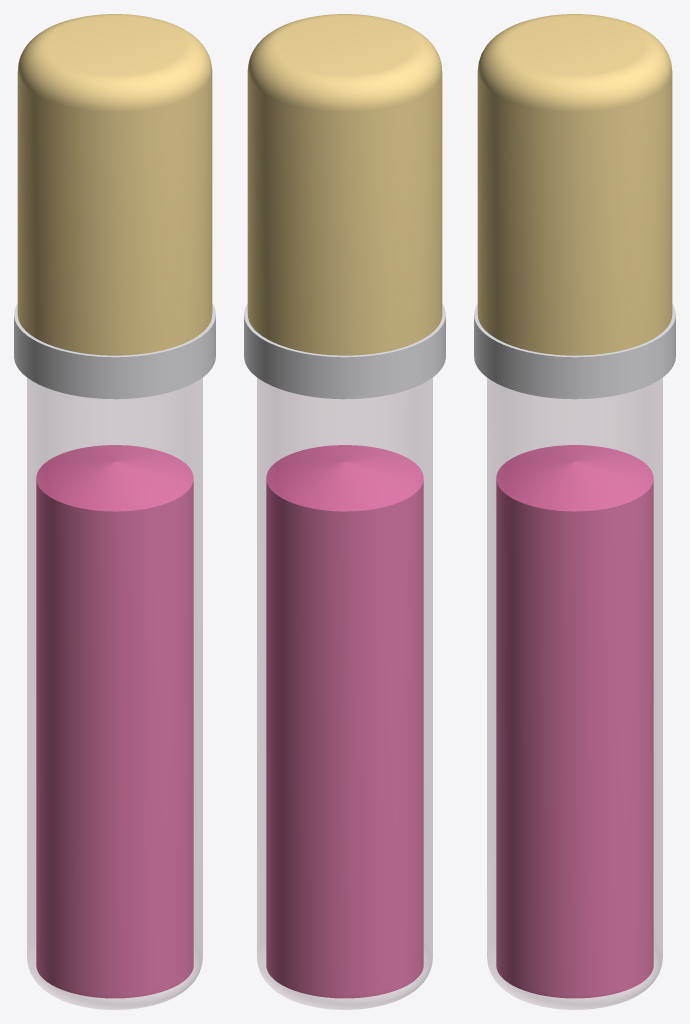
Rendered from Lipstick.glb.
3 views of the same model, side by side, from view 1: azimuth 30°, elevation 25°; view 2: azimuth 150°, elevation 25°; view 3: azimuth 270°, elevation 25° (orthographic).
Visible parts, largest first — view 1: LipGloss; view 2: LipGloss; view 3: LipGloss.
Boxes of the visible parts, x1,y1,x2,y2 form: LipGloss: [14, 14, 215, 1009]; LipGloss: [244, 14, 445, 1009]; LipGloss: [474, 14, 675, 1009].
Size of the model in its own units: 0.0218 by 0.1115 by 0.0218.
